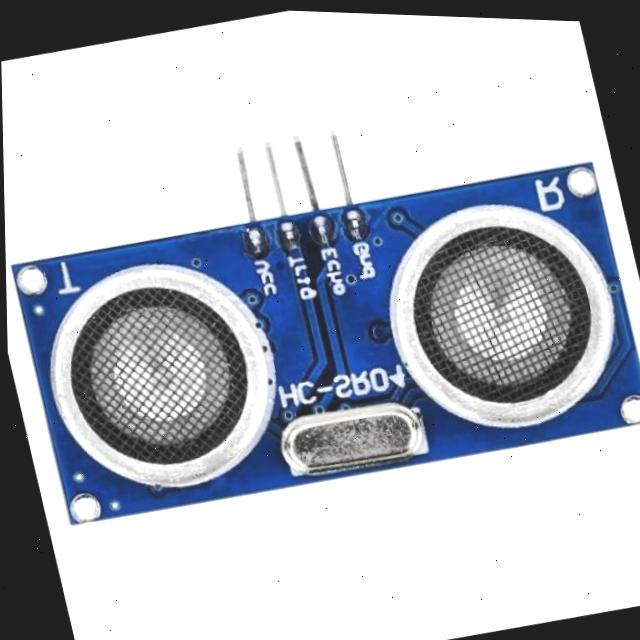Ultrasonic Sensor: (3, 87, 640, 537)
